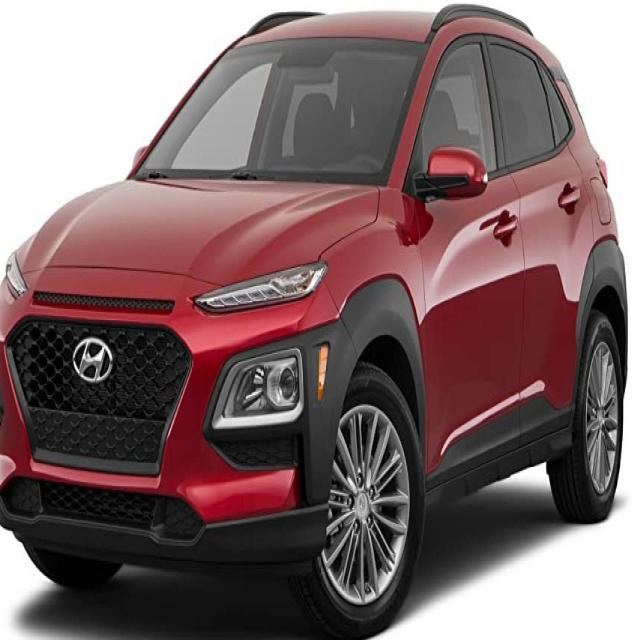maroon: (4, 9, 630, 576)
